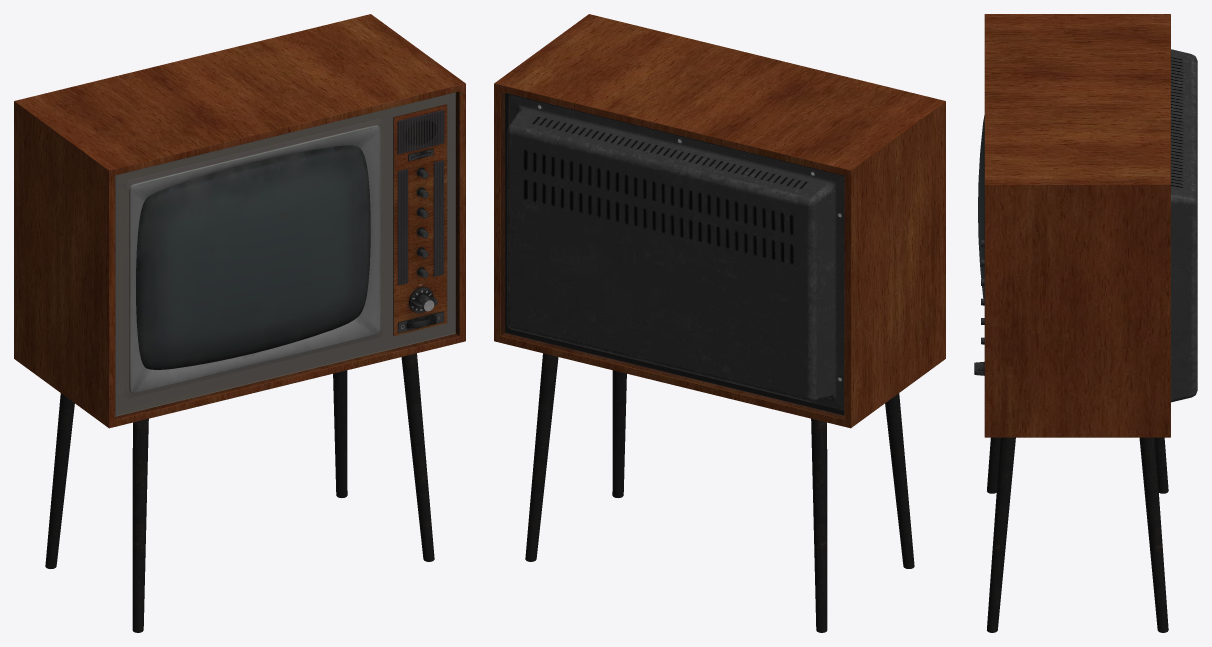
3 renders of one model, left to right at view 1: azimuth 30°, elevation 25°; view 2: azimuth 150°, elevation 25°; view 3: azimuth 270°, elevation 25°, orthographic. The views are drawn at different scales.
Visible parts, largest first — view 1: TV; view 2: TV; view 3: TV.
Boxes of the visible parts, box(x1,y1,x2,y2) form: TV: box(14, 14, 465, 632); TV: box(494, 14, 945, 632); TV: box(978, 14, 1197, 632).
Size of the model in its own units: 1.01 by 1.28 by 0.5596.
Materials: 2 (2 with a texture image).
